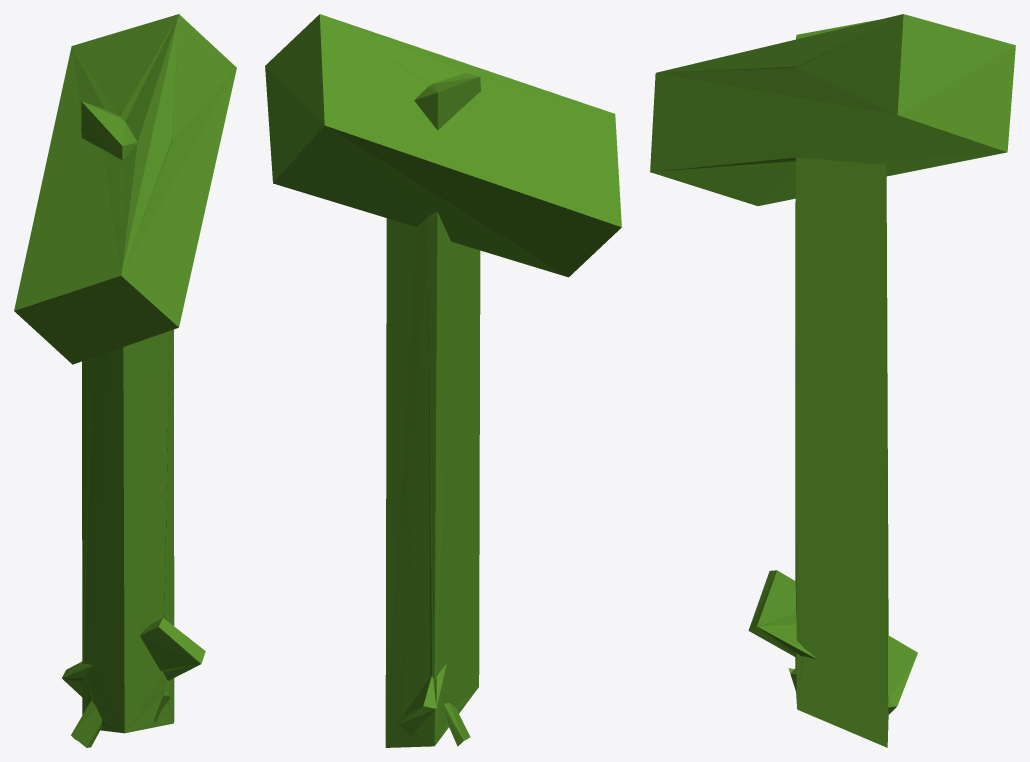
3 renders of one model, left to right at view 1: azimuth 30°, elevation 25°; view 2: azimuth 150°, elevation 25°; view 3: azimuth 270°, elevation 25°, orthographic. The views are drawn at different scales.
Parts seen in each view (by area): view 1: 662_Cube.2661; view 2: 662_Cube.2661; view 3: 662_Cube.2661.
Part boxes in pixels (x1,y1,x2,y2): 662_Cube.2661: (14, 14, 236, 747); 662_Cube.2661: (265, 14, 621, 747); 662_Cube.2661: (650, 14, 1015, 747).
Bounding box in the file's own units: 5.86 × 13.79 × 5.98.
